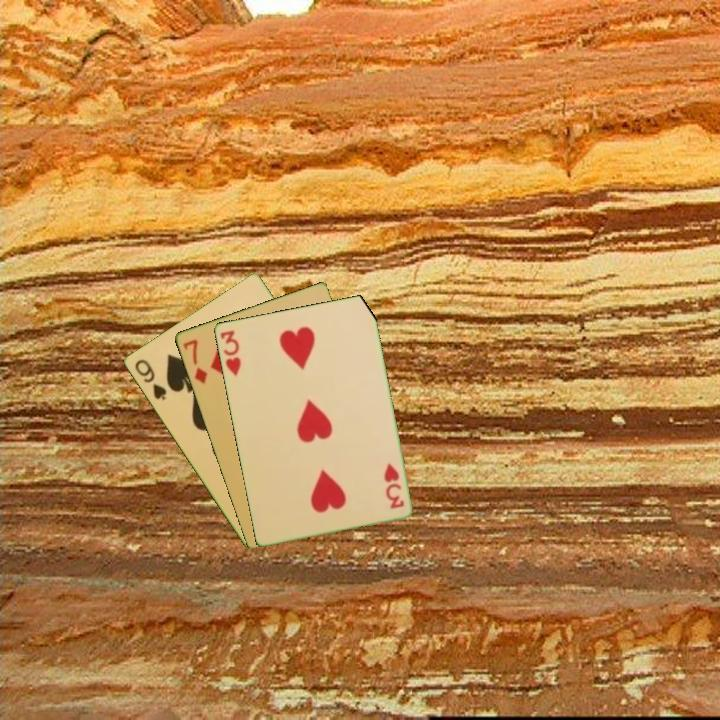3h: (216, 326, 243, 379), (380, 460, 407, 511)
7d: (179, 336, 210, 386)
9s: (131, 355, 169, 403)
